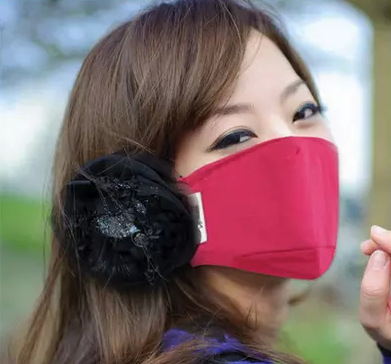face_mask: (180, 61, 340, 280)
